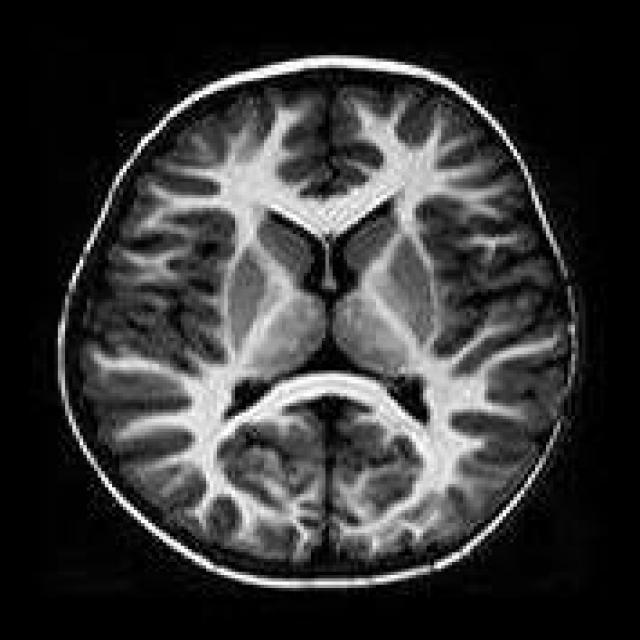notumor: (58, 58, 575, 585)
